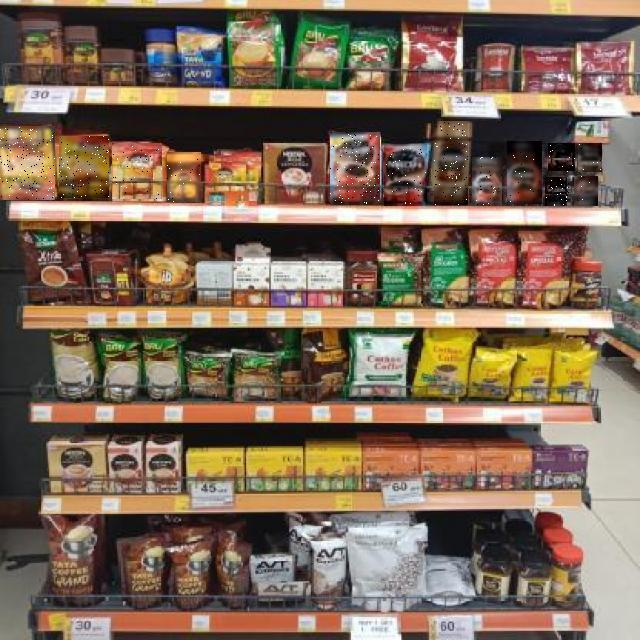Coffee: (0, 126, 55, 200), (331, 132, 381, 205), (59, 136, 109, 198), (435, 121, 469, 205), (113, 143, 163, 199), (384, 145, 427, 207), (507, 141, 542, 204), (167, 152, 201, 202), (472, 157, 502, 206), (548, 144, 575, 174), (574, 176, 598, 206), (578, 143, 602, 172), (546, 177, 570, 206)
